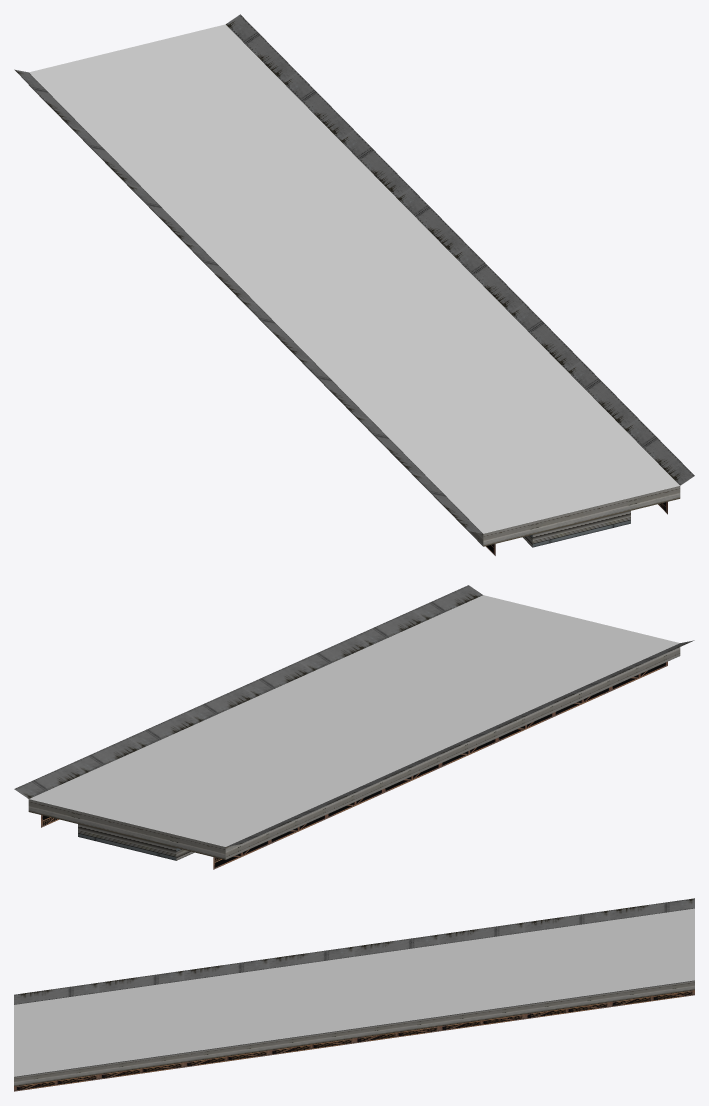
The model's file is TrackRamp01.fbx.
3 views of the same model, one above another, from view 1: azimuth 30°, elevation 25°; view 2: azimuth 150°, elevation 25°; view 3: azimuth 270°, elevation 25° (orthographic). The views are drawn at different scales.
Visible parts, largest first — view 1: Empty_Mesh; view 2: Empty_Mesh; view 3: Empty_Mesh.
Part boxes in pixels (box(x1,y1,x2,y2)): Empty_Mesh: box(14, 14, 694, 555); Empty_Mesh: box(14, 585, 694, 869); Empty_Mesh: box(14, 898, 694, 1091).
Bounding box in the file's own units: 18.4 × 12.5 × 64.
